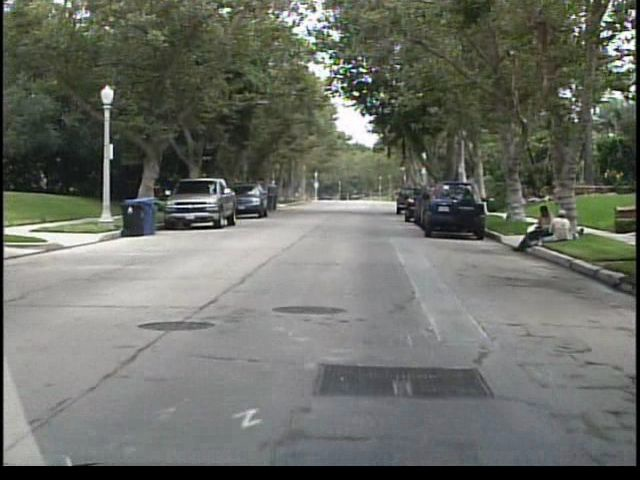person: (514, 203, 558, 254), (546, 206, 573, 239)
